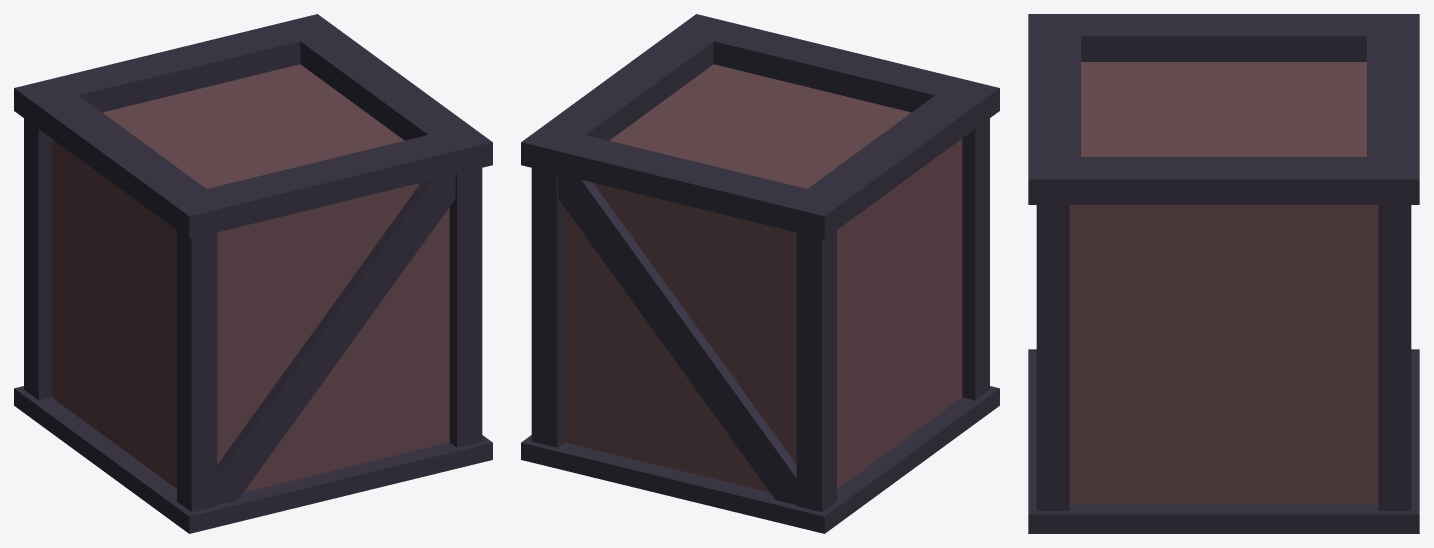
3 renders of one model, left to right at view 1: azimuth 30°, elevation 25°; view 2: azimuth 150°, elevation 25°; view 3: azimuth 270°, elevation 25°, orthographic. The views are drawn at different scales.
Parts seen in each view (by area): view 1: box_04; view 2: box_04; view 3: box_04.
Part boxes in pixels (x1,y1,x2,y2): box_04: [14, 14, 492, 533]; box_04: [521, 14, 999, 533]; box_04: [1028, 14, 1419, 533].
Bounding box in the file's own units: 61 × 61 × 61.
